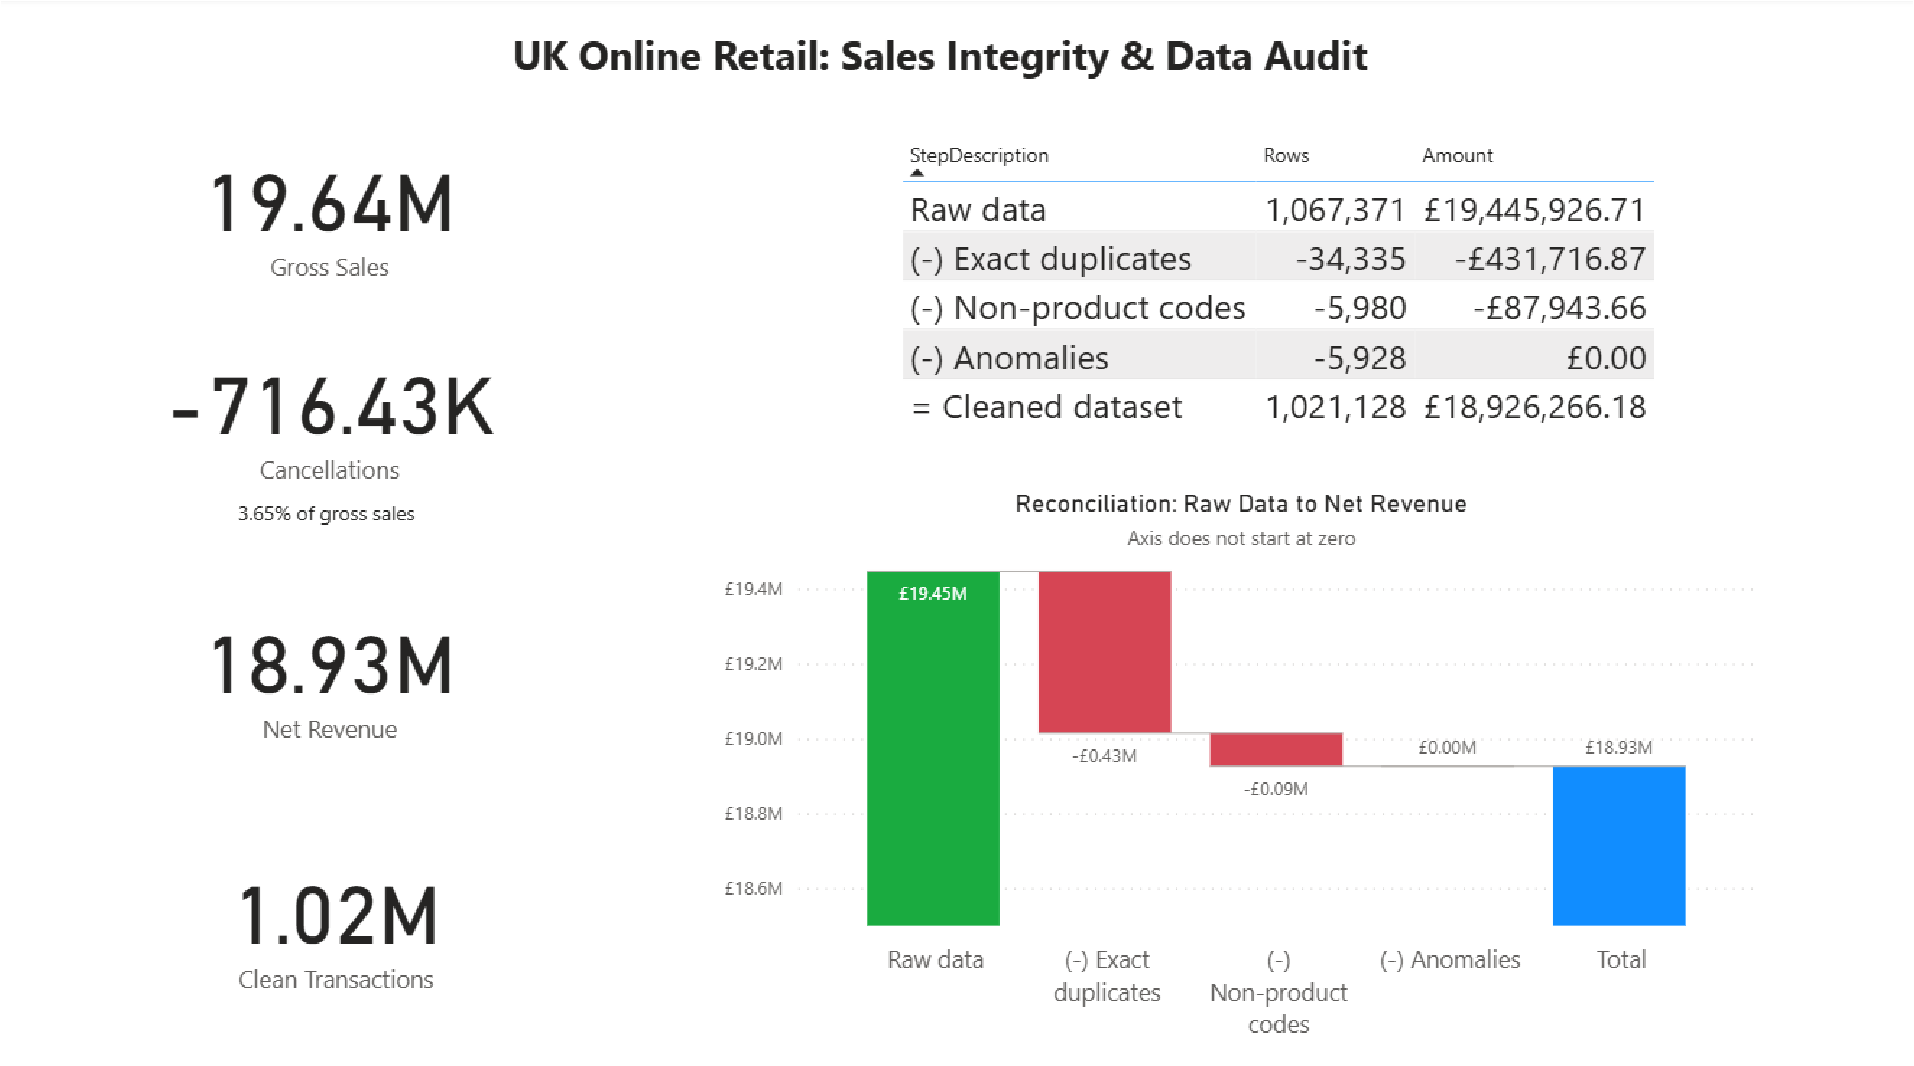

The page's visual inventory and layout, read from the dashboard file:
{"tool":"powerbi","page":{"name":"Executive Summary","canvas":[1280,720],"ordinal":0},"visuals":[{"type":"textbox","box":[336.2,15.1,606.5,50.8],"z":0},{"type":"card","title":"Gross Sales","fields":{"Values":["Sum(vw_net_revenue_breakdown.TotalAmount)"]},"box":[0,65.9,439.1,152.3],"z":1000},{"type":"card","fields":{"Values":["Sum(vw_net_revenue_breakdown.TotalAmount)"]},"box":[0,203.1,439.1,152.3],"z":2000},{"type":"card","fields":{"Values":["Sum(vw_reconciliation.TotalRows)"]},"box":[8.2,543.4,430.9,152.3],"z":3000},{"type":"card","fields":{"Values":["Sum(vw_net_revenue_breakdown.TotalAmount)"]},"box":[0,376,439.1,152.3],"z":4000},{"type":"textbox","box":[363.6,477.5,332.1,152.3],"z":5000},{"type":"waterfallChart","title":"Reconciliation: Raw Data to Net Revenue","fields":{"Category":["vw_reconciliation.StepDescription"],"Y":["Sum(vw_reconciliation.TotalAmount)"]},"box":[477.5,329.3,701.2,391.1],"z":6000},{"type":"tableEx","fields":{"Values":["vw_reconciliation.StepDescription","Sum(vw_reconciliation.TotalRows)","Sum(vw_reconciliation.TotalAmount)"]},"box":[595.5,90.6,525.6,223.7],"z":7000},{"type":"textbox","box":[153.2,331.7,172.5,44.6],"z":8000}]}

Visuals, with their boxes in screenshot pixels (x1, y1, x2, y2), scaled from the page's 1280x720 canvas onto the 1914x1066 screenshot:
textbox: BBox(503, 22, 1410, 98)
"Gross Sales" card: BBox(0, 98, 657, 323)
card - Sum(vw_net_revenue_breakdown.TotalAmount): BBox(0, 301, 657, 526)
card - Sum(vw_reconciliation.TotalRows): BBox(12, 805, 657, 1030)
card - Sum(vw_net_revenue_breakdown.TotalAmount): BBox(0, 557, 657, 782)
textbox: BBox(544, 707, 1040, 932)
"Reconciliation: Raw Data to Net Revenue" waterfallChart: BBox(714, 488, 1763, 1065)
tableEx - vw_reconciliation.StepDescription x Sum(vw_reconciliation.TotalRows): BBox(890, 134, 1676, 465)
textbox: BBox(229, 491, 487, 557)
